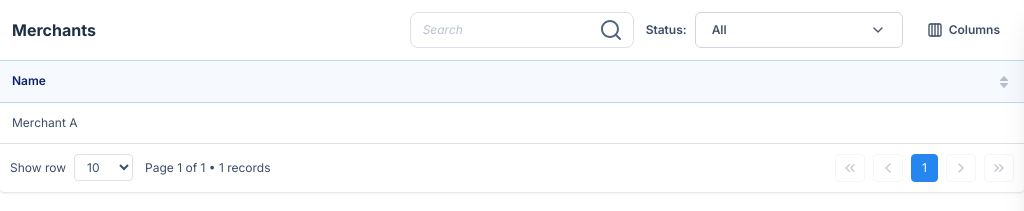
Test: GenericTable — status filter › selecting All clears the status filter again
Expected: the text "Merchant A" is shown, x1=0 y1=102 x2=1023 y2=143
Click the button "All". click: click(799, 30)
box: x1=695 y1=12 x2=903 y2=48
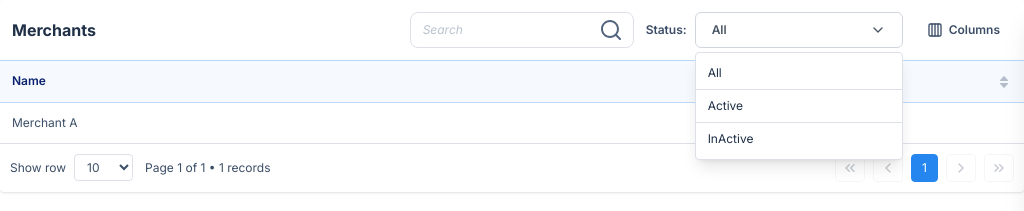
Click the button "Active". click: click(799, 106)
box: x1=696 y1=90 x2=902 y2=122
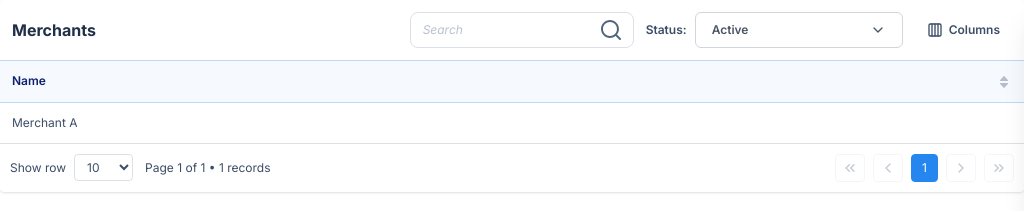
Click the button "Active". click: click(799, 30)
box: x1=695 y1=12 x2=903 y2=48
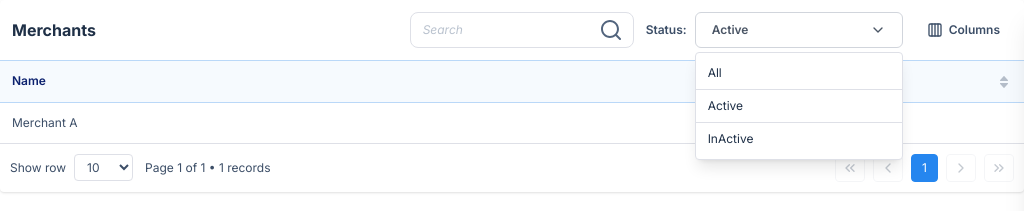
Click the button "All". click: click(799, 73)
box: x1=696 y1=57 x2=902 y2=89
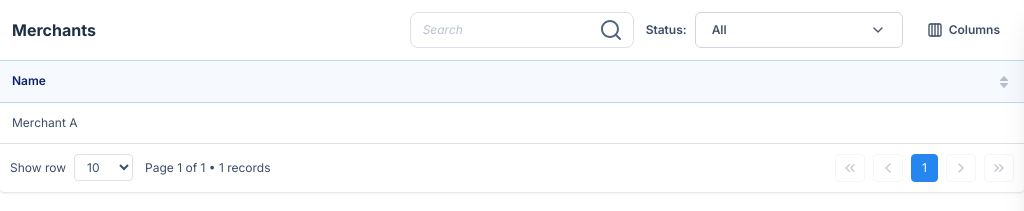
Expected: the button "All" is shown, x1=695 y1=12 x2=903 y2=48
